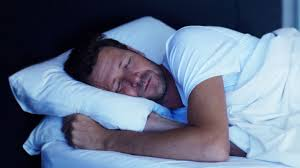sleeping: (22, 20, 300, 164)
